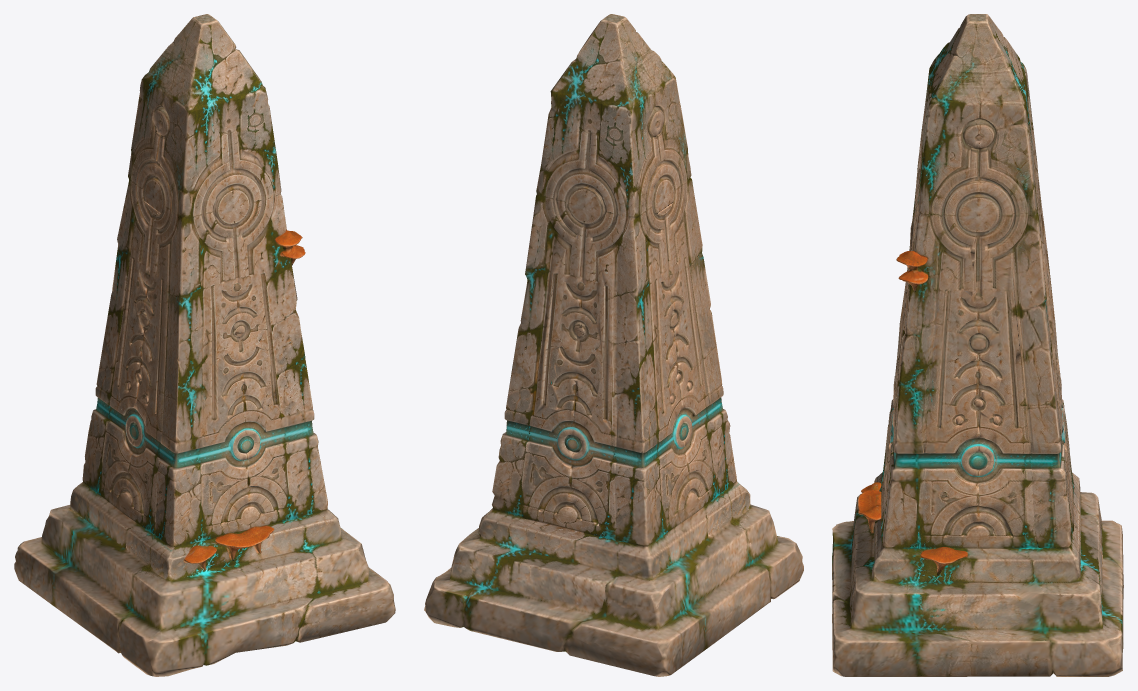
Rendered from citadel_obelisk.glb.
3 views of the same model, side by side, from view 1: azimuth 30°, elevation 25°; view 2: azimuth 150°, elevation 25°; view 3: azimuth 270°, elevation 25° (orthographic). The views are drawn at different scales.
Size of the model in its own units: 0.4204 by 0.9517 by 0.4204.
Materials: 1 (1 with a texture image).
